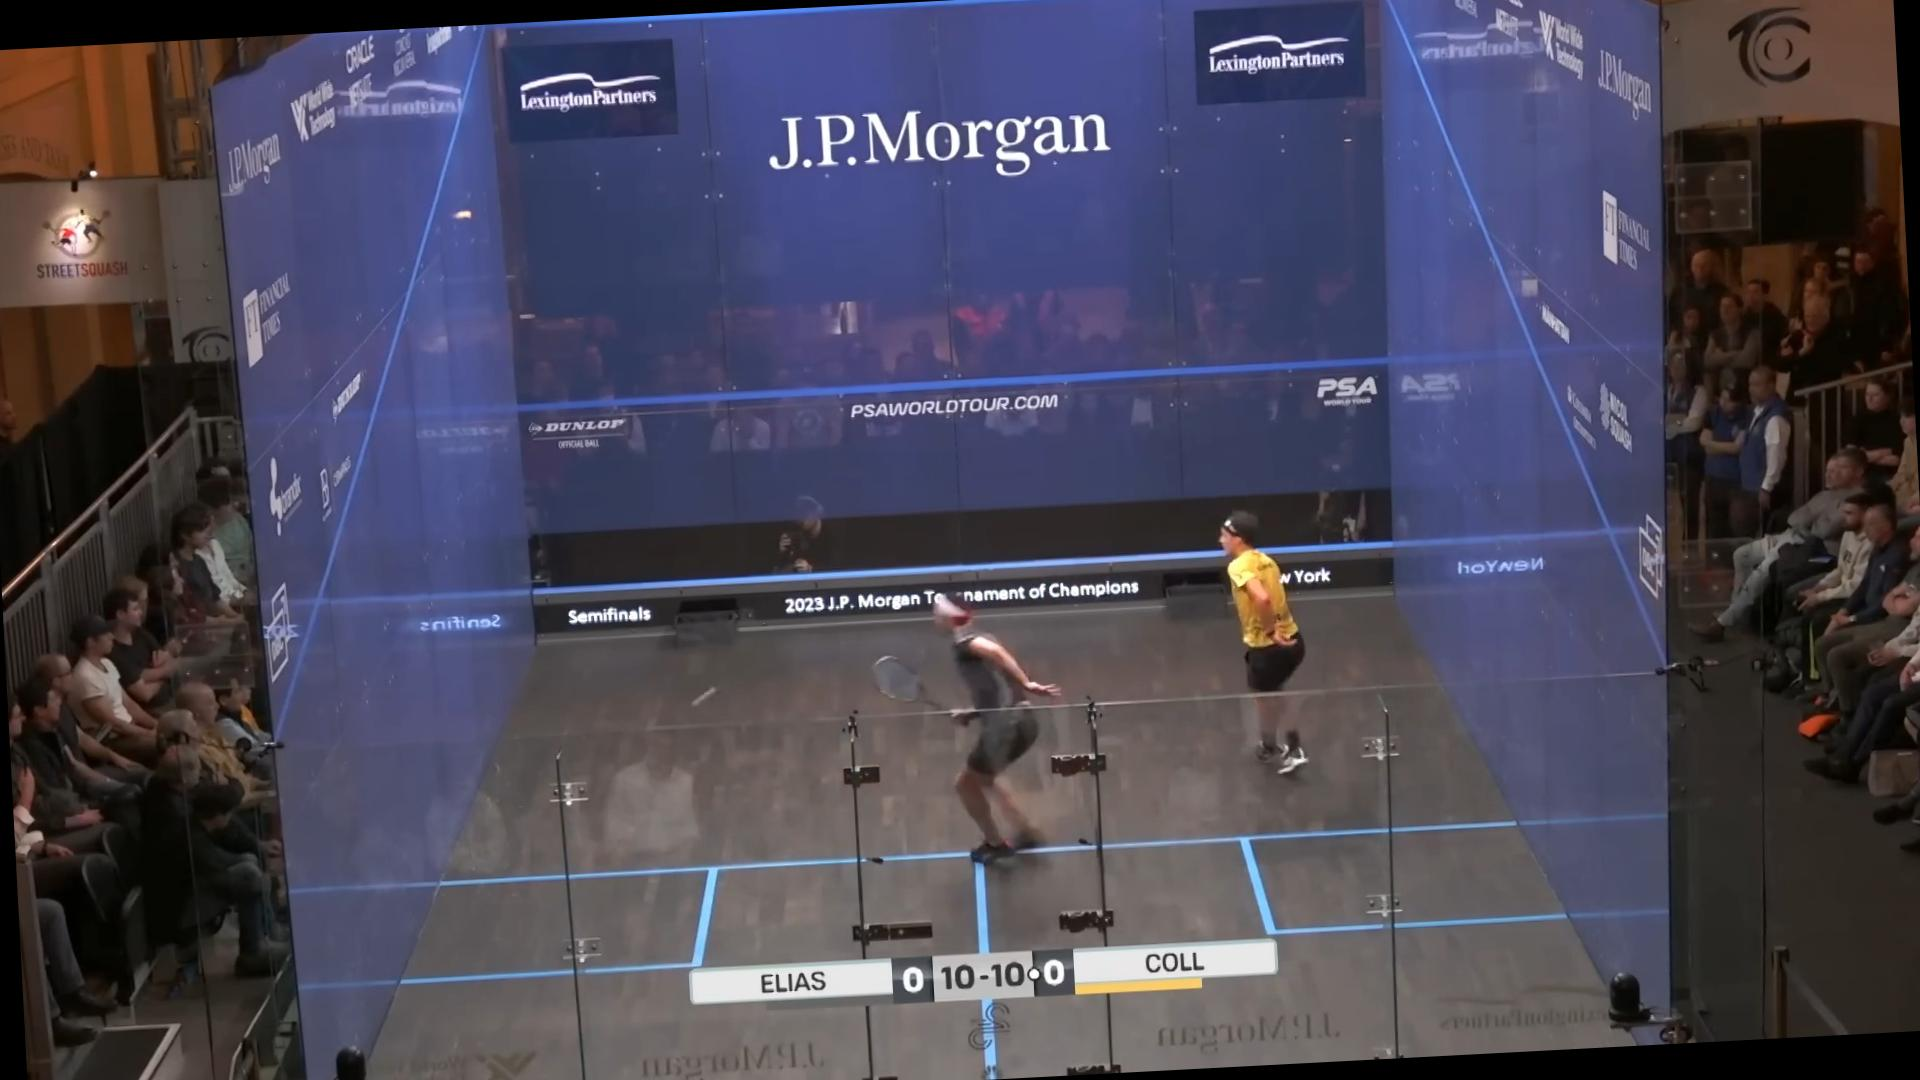Racket: (855, 642, 956, 720)
